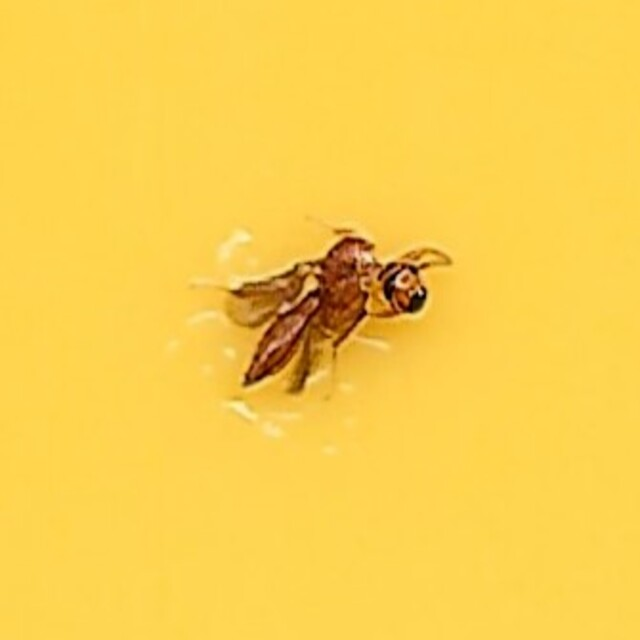Hymenoptera: (191, 230, 449, 410)
